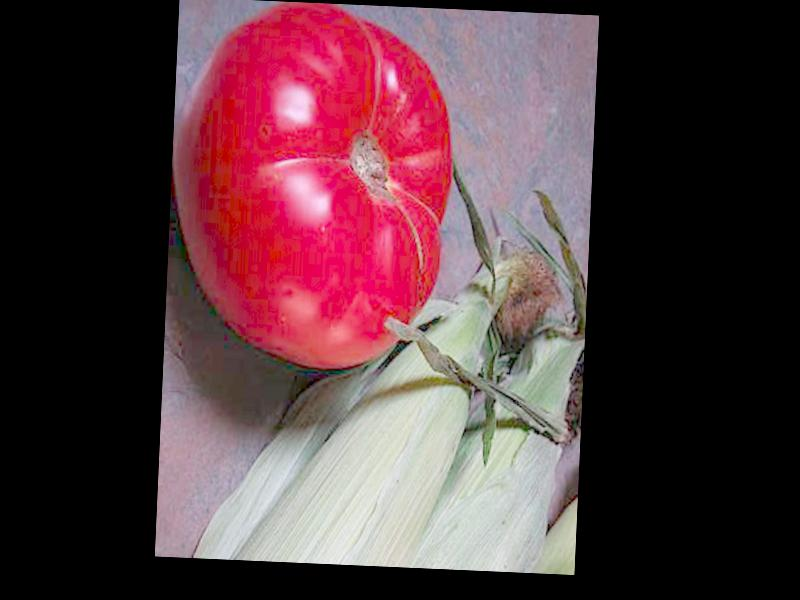Tomato: (167, 0, 459, 371)
